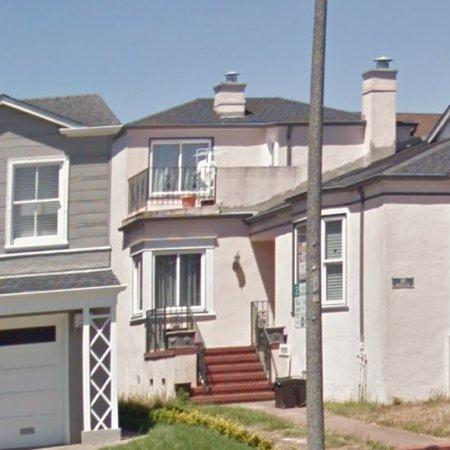chimneys: (363, 57, 399, 152), (214, 71, 247, 118)
